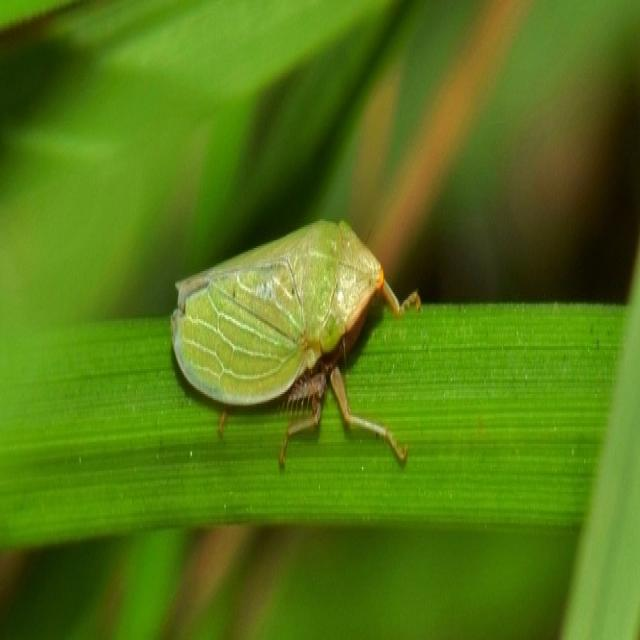Yechan: (158, 210, 434, 492)
